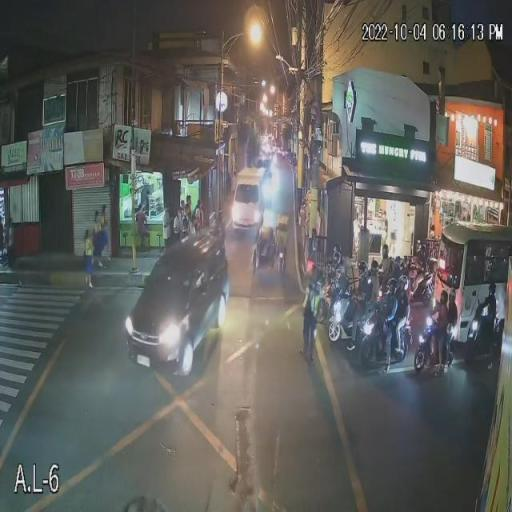helmet: (384, 277, 400, 296), (354, 260, 368, 278), (398, 274, 410, 294), (448, 286, 456, 304), (440, 290, 448, 304)
motorcycle: (358, 323, 413, 363), (326, 297, 366, 344), (413, 335, 454, 370)
rider: (347, 279, 370, 350), (444, 306, 458, 374), (436, 306, 449, 376), (394, 296, 410, 351), (384, 300, 396, 372), (363, 275, 381, 320), (370, 260, 382, 274), (331, 252, 342, 265)
